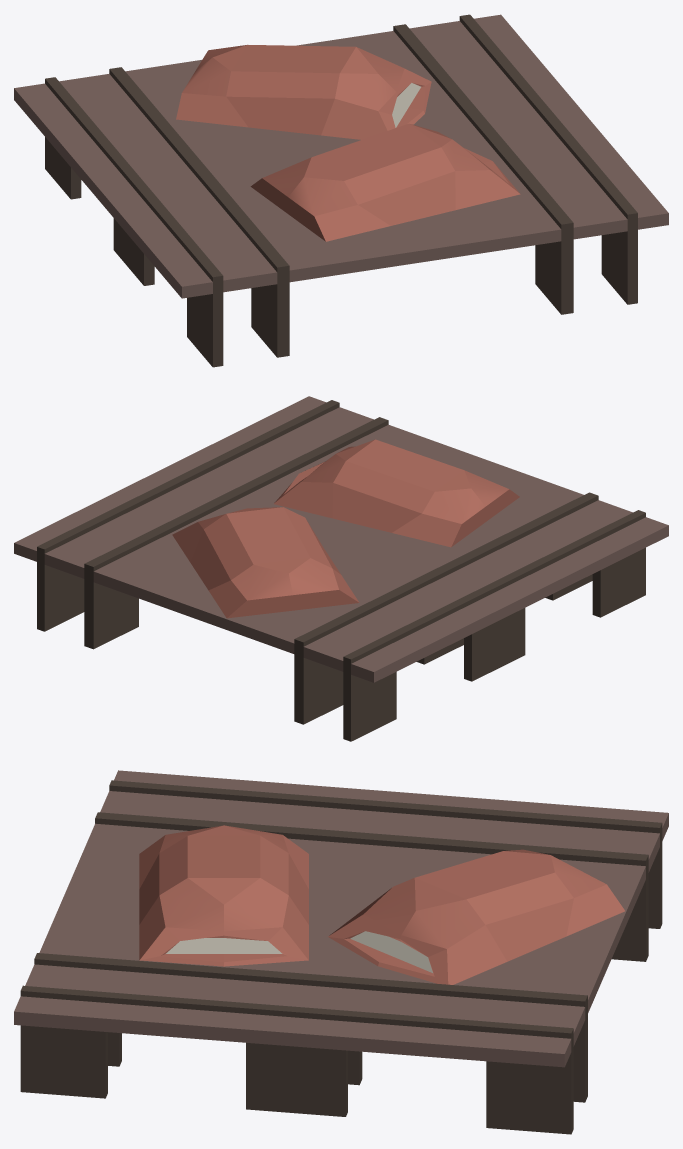
The model's file is stockpile.fbx.
3 renders of one model, top to bottom at view 1: azimuth 30°, elevation 25°; view 2: azimuth 150°, elevation 25°; view 3: azimuth 270°, elevation 25°, orthographic. The views are drawn at different scales.
Parts seen in each view (by area): view 1: stockpile, rice1, rice2; view 2: stockpile, rice2, rice1; view 3: stockpile, rice1, rice2.
Boxes of the visible parts, x1,y1,x2,y2 form: stockpile: (14, 14, 668, 367); rice1: (176, 44, 431, 139); rice2: (250, 123, 520, 241); stockpile: (14, 396, 668, 741); rice2: (274, 439, 519, 547); rice1: (172, 507, 359, 618); stockpile: (14, 770, 668, 1134); rice1: (328, 849, 624, 984); rice2: (139, 825, 308, 966).
Size of the model in its own units: 10.02 by 2.42 by 9.77.
